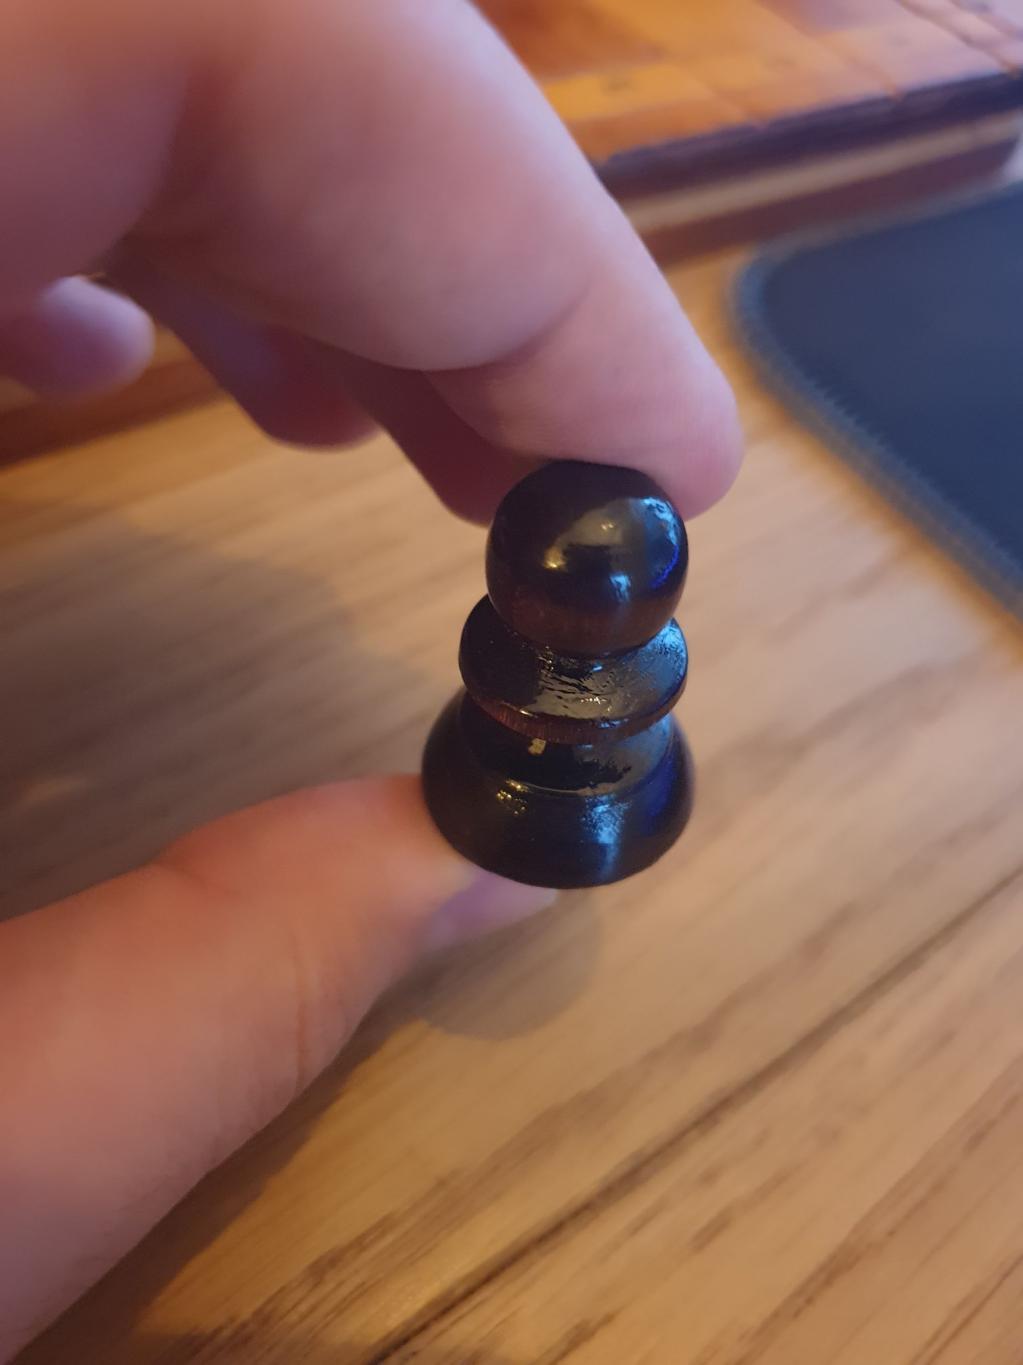bpawn: (420, 461, 697, 892)
